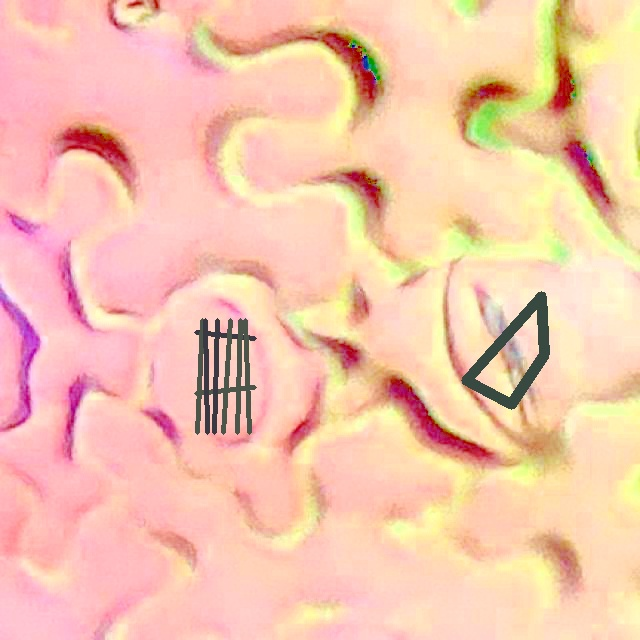close: (195, 319, 256, 433)
open: (461, 291, 549, 408)
